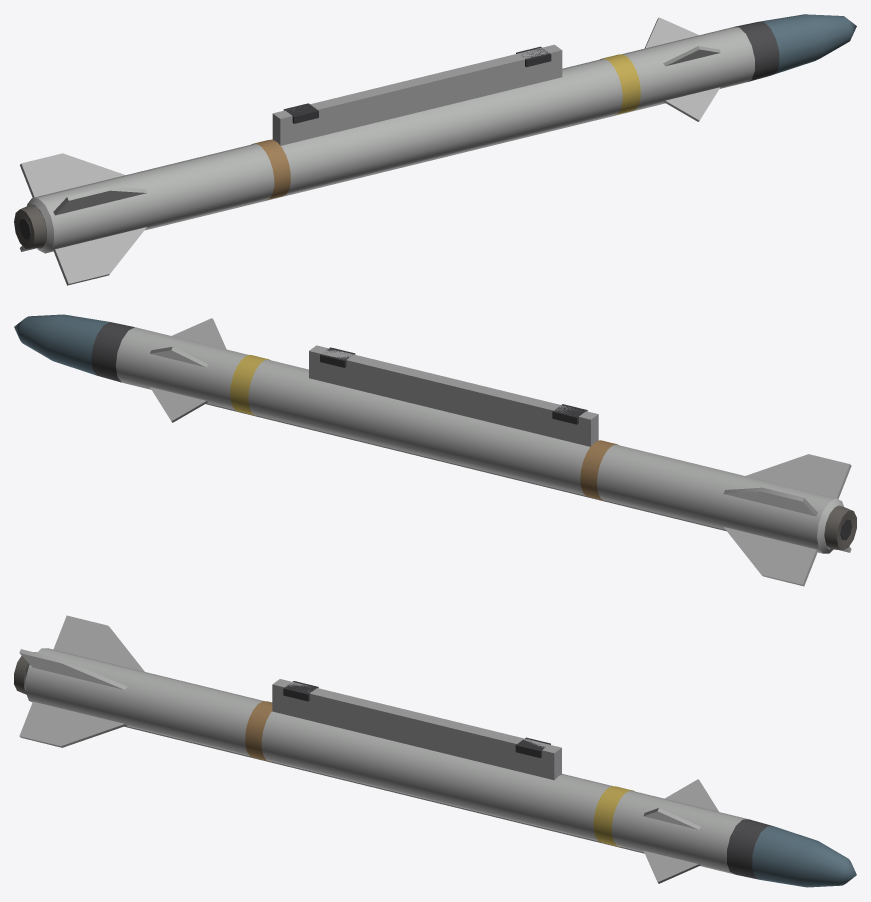
File: srm_1.glb
3 renders of one model, top to bottom at view 1: azimuth 30°, elevation 25°; view 2: azimuth 150°, elevation 25°; view 3: azimuth 330°, elevation 25°, orthographic.
Visible parts, largest first — view 1: srm_1; view 2: srm_1; view 3: srm_1.
Boxes of the visible parts, bbox=[...] form: srm_1: bbox=[14, 14, 856, 285]; srm_1: bbox=[14, 314, 856, 586]; srm_1: bbox=[14, 615, 856, 887].
Size of the model in its own units: 1 by 0.1106 by 0.1022.
